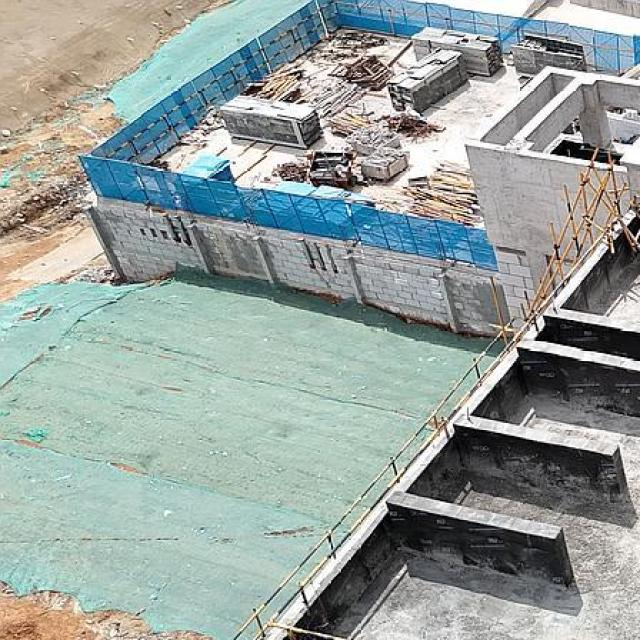edge_guardrail: (266, 227, 611, 640), (228, 318, 515, 640), (103, 0, 335, 164)
